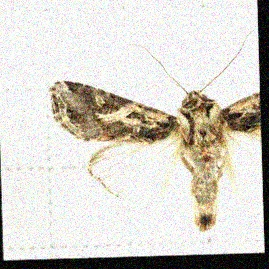Spodoptera litura: (48, 31, 261, 233)
